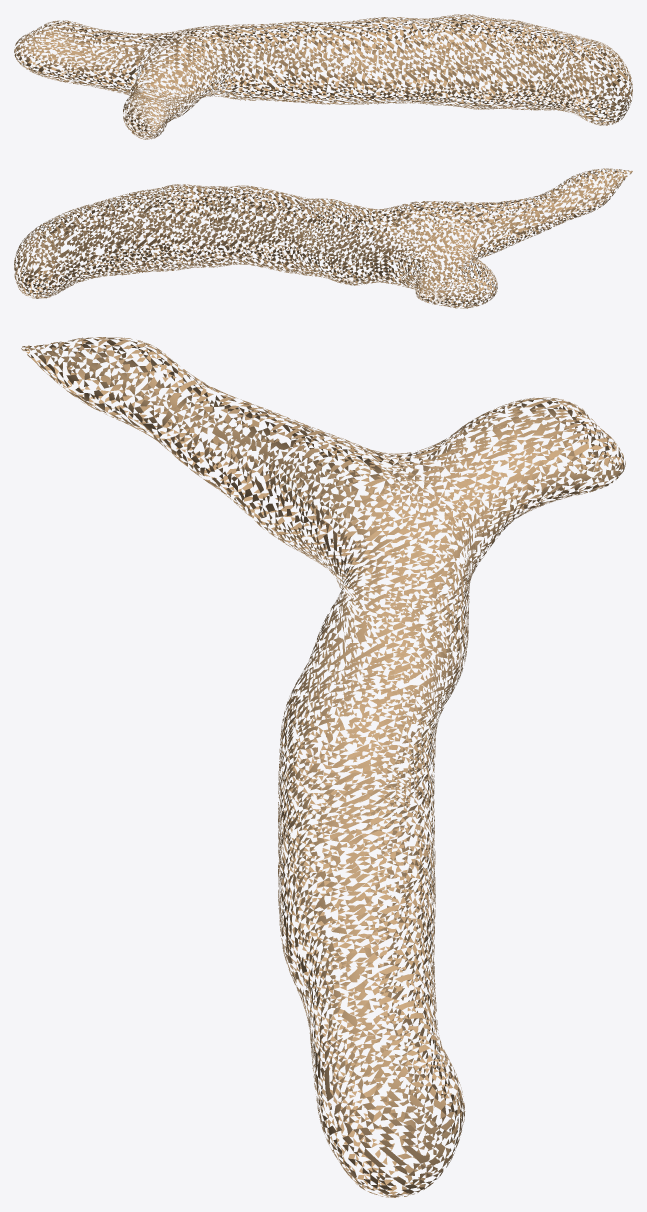
Rendered from morph_006.glb.
The picture shows the model from 3 angles, top to bottom: view 1: azimuth 30°, elevation 25°; view 2: azimuth 150°, elevation 25°; view 3: azimuth 270°, elevation 25°; orthographic projection. The views are drawn at different scales.
Bounding box in the file's own units: 111 × 39.14 × 56.05.
